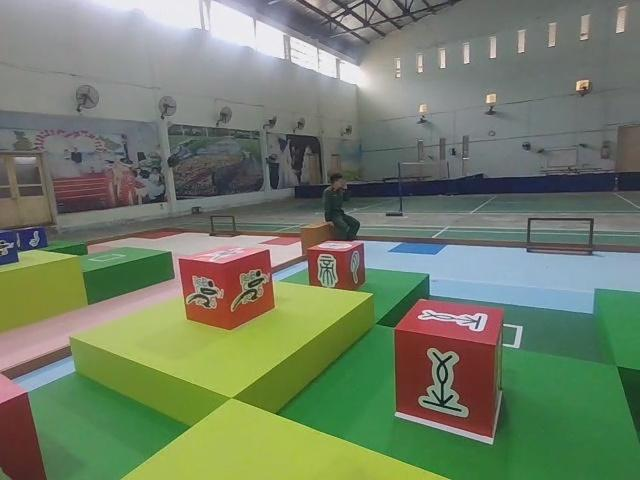R1: (176, 242, 278, 334)
R2 Fake: (304, 237, 366, 293)
R2 Real: (389, 294, 507, 441)
